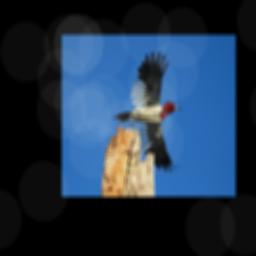Woodpecker: (112, 51, 181, 173)
